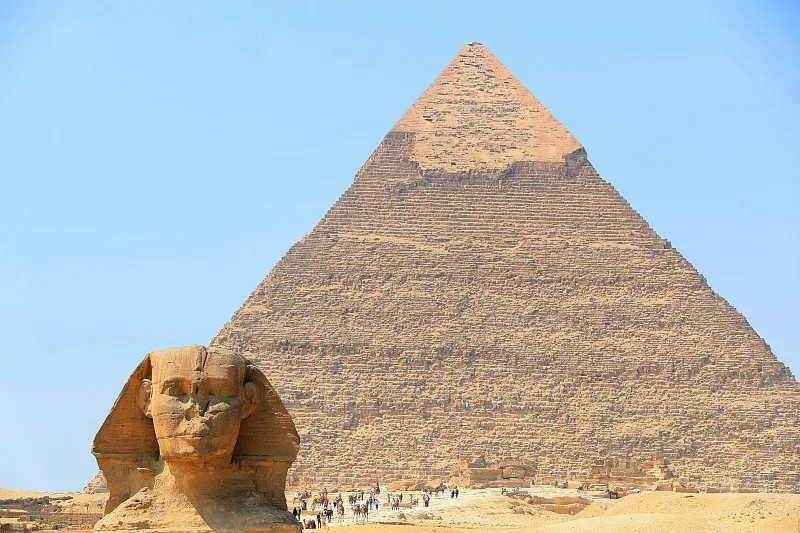Pyramid: (210, 41, 800, 492)
